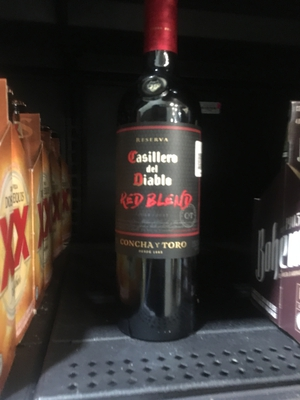casillero del diablo red blend: (98, 9, 217, 339)
